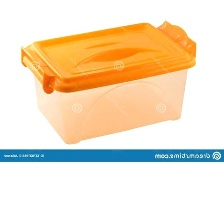plastic_box: (15, 12, 206, 149)
